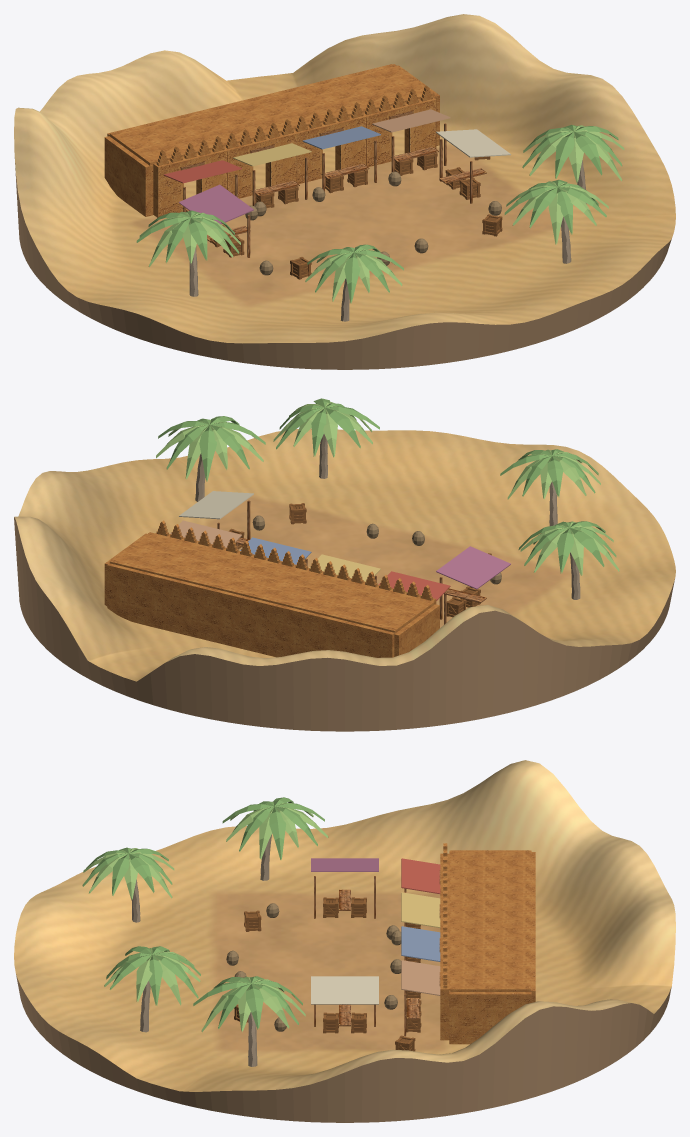
3 views of the same model, one above another, from view 1: azimuth 30°, elevation 25°; view 2: azimuth 150°, elevation 25°; view 3: azimuth 270°, elevation 25° (orthographic).
Visible parts, largest first — view 1: Ground, Plinth, ShopRoof, ShopEnd, WallDoor.004, WallDoor.003, WallDoor.001, WallDoor.002, Awning4, Awning5, Awning1, Awning2 (+2 smaller); view 2: Ground, Plinth, ShopBack, ShopRoof, Awning4, ShopEnd, Awning5, Awning0, Awning3, Awning1, Awning2, frond.041; view 3: Ground, Plinth, ShopRoof, ShopEnd.001, Awning5, Awning2, Awning3, Awning0, Awning1, Awning4, ShopBack, WallDoor.004.
Boxes of the visible parts, <box> form: Ground: <box>14,14,675,343</box>; Plinth: <box>14,158,671,369</box>; ShopRoof: <box>109,64,434,165</box>; ShopEnd: <box>104,136,153,216</box>; WallDoor.004: <box>363,97,436,166</box>; WallDoor.003: <box>294,114,366,183</box>; WallDoor.001: <box>153,148,227,217</box>; WallDoor.002: <box>224,131,297,198</box>; Awning4: <box>179,184,253,224</box>; Awning5: <box>436,129,510,157</box>; Awning1: <box>233,143,311,166</box>; Awning2: <box>302,126,380,149</box>; Ground: <box>14,428,675,681</box>; Plinth: <box>14,517,674,731</box>; ShopBack: <box>107,563,397,657</box>; ShopRoof: <box>109,532,434,632</box>; Awning4: <box>436,546,510,589</box>; ShopEnd: <box>394,604,439,656</box>; Awning5: <box>179,491,253,519</box>; Awning0: <box>378,571,450,600</box>; Awning3: <box>170,520,241,547</box>; Awning1: <box>309,554,380,581</box>; Awning2: <box>240,537,311,564</box>; frond.041: <box>199,425,216,481</box>; Ground: <box>14,760,675,1091</box>; Plinth: <box>16,974,671,1122</box>; ShopRoof: <box>450,850,530,991</box>; ShopEnd.001: <box>449,990,531,1044</box>; Awning5: <box>311,976,378,1004</box>; Awning2: <box>401,926,440,961</box>; Awning3: <box>401,960,440,995</box>; Awning0: <box>401,858,440,893</box>; Awning1: <box>401,892,440,927</box>; Awning4: <box>311,858,378,871</box>; ShopBack: <box>526,852,535,1002</box>; WallDoor.004: <box>440,955,450,1040</box>.
Size of the model in its own units: 33 by 5.97 by 33.
Materials: 20 (7 with a texture image).
